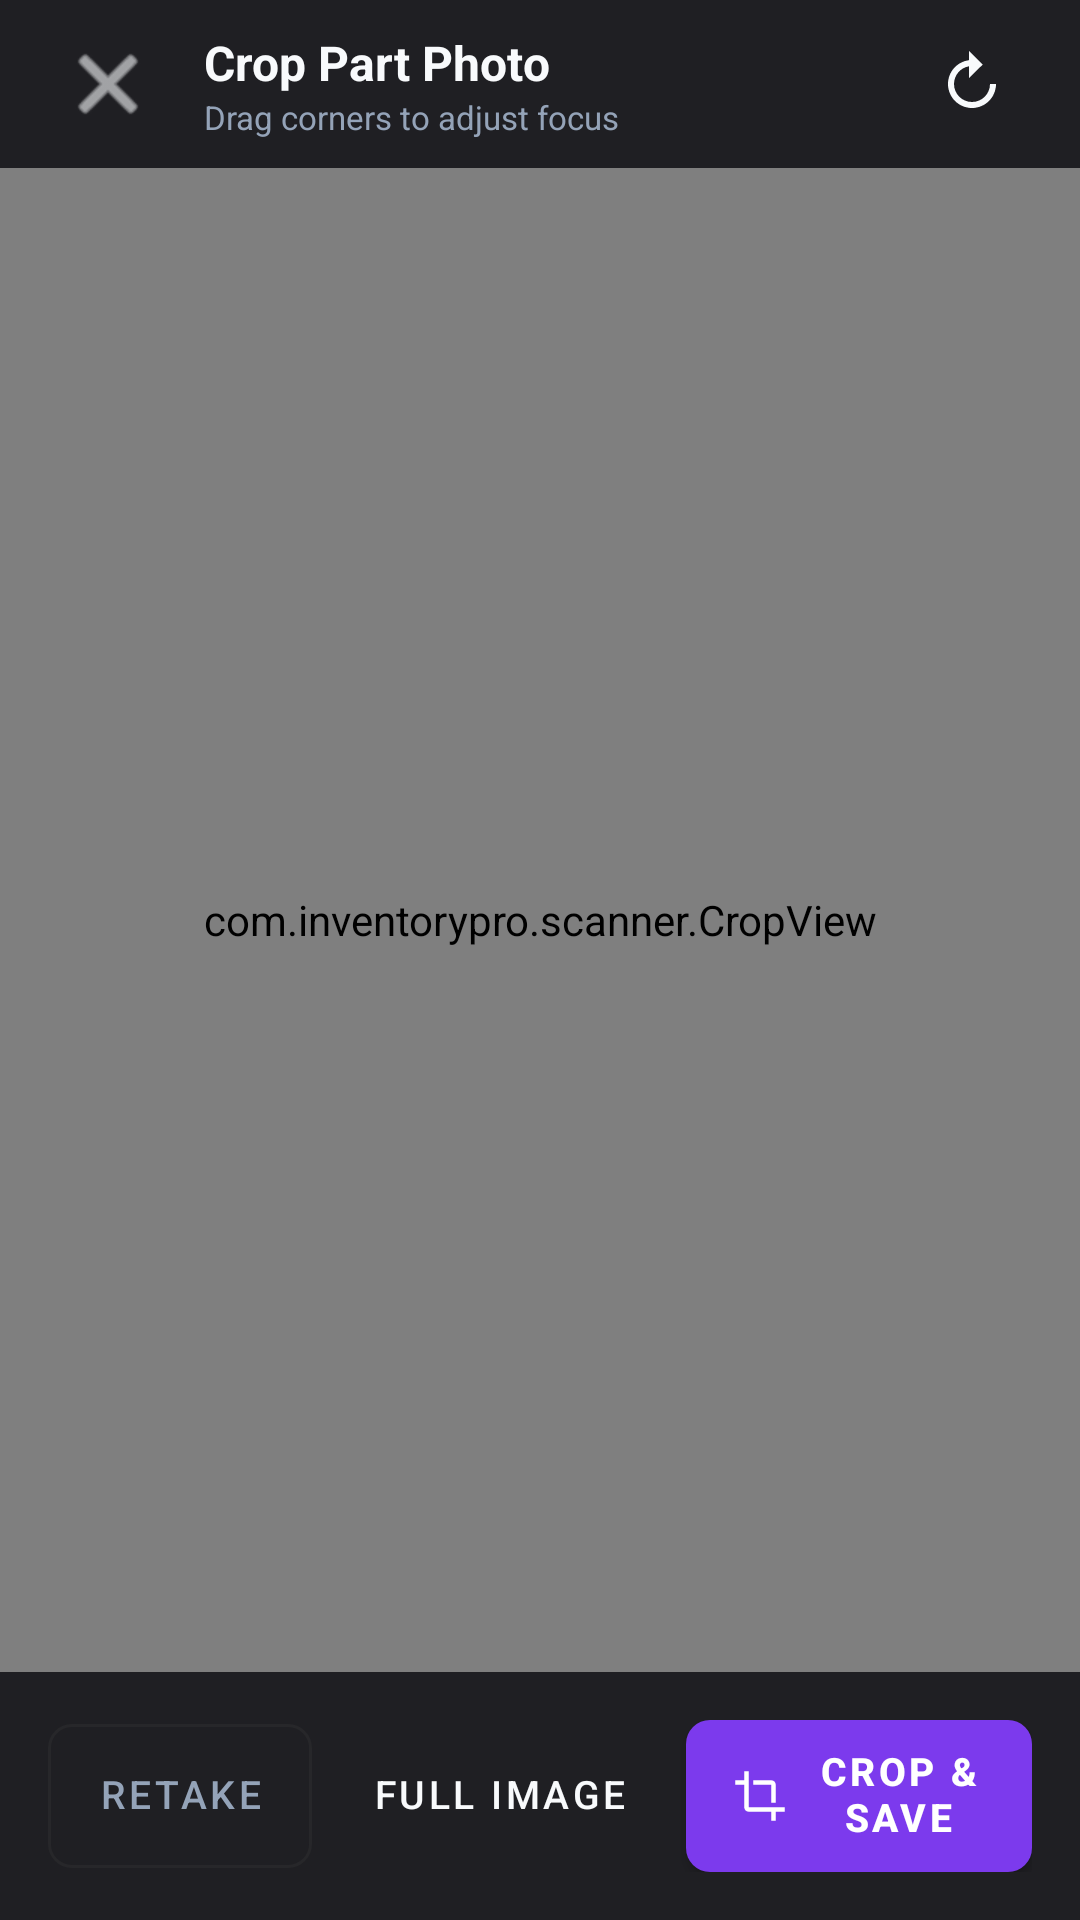

Screen size 1080x1920. Icon name, then its center in pixels as (x,y):
Cancel: (108,84)
Rotate 90°: (972,79)
